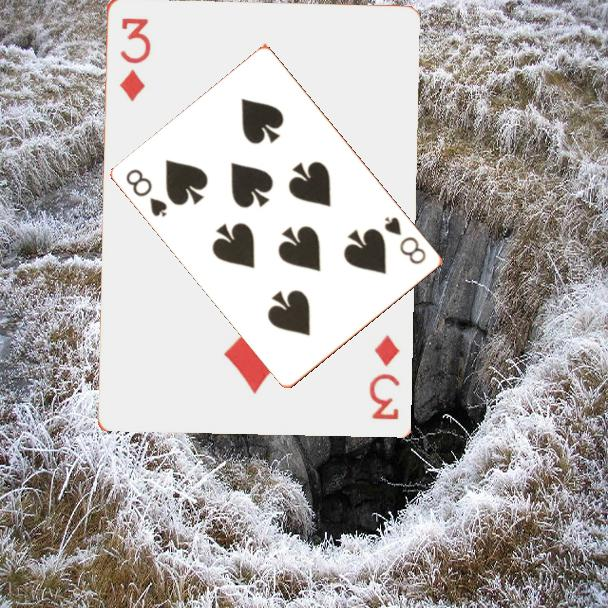d03: (115, 13, 152, 104), (365, 331, 402, 422)
s08: (381, 213, 430, 267), (123, 165, 171, 220)
